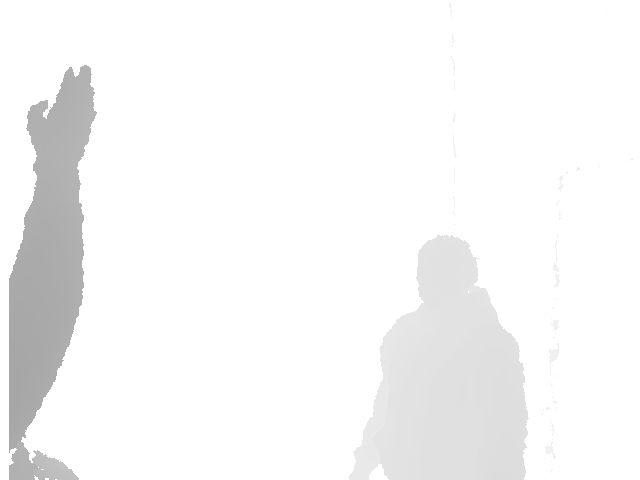hand: (26, 64, 96, 174)
head: (415, 234, 479, 311)
person: (347, 234, 530, 480), (9, 64, 97, 480)
